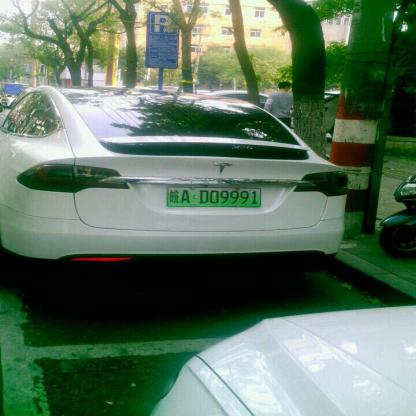lp: (169, 186, 261, 206)
